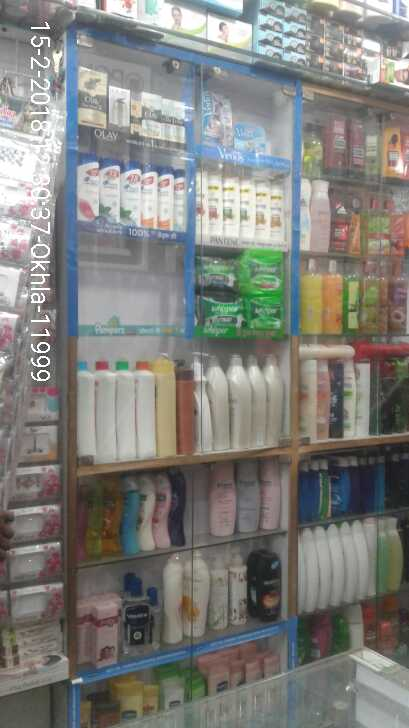venus: (206, 87, 233, 148), (233, 124, 266, 148)
